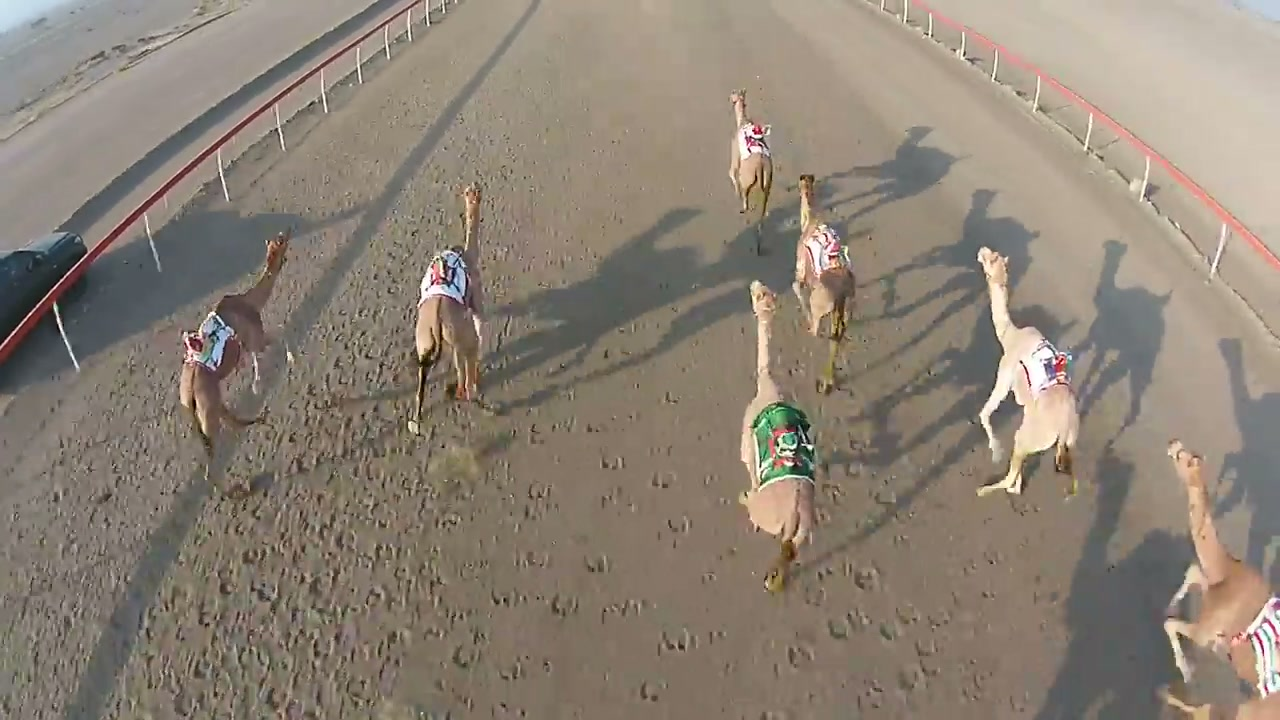animal_footprint: (129, 311, 566, 708), (444, 369, 748, 698), (779, 400, 993, 715)
